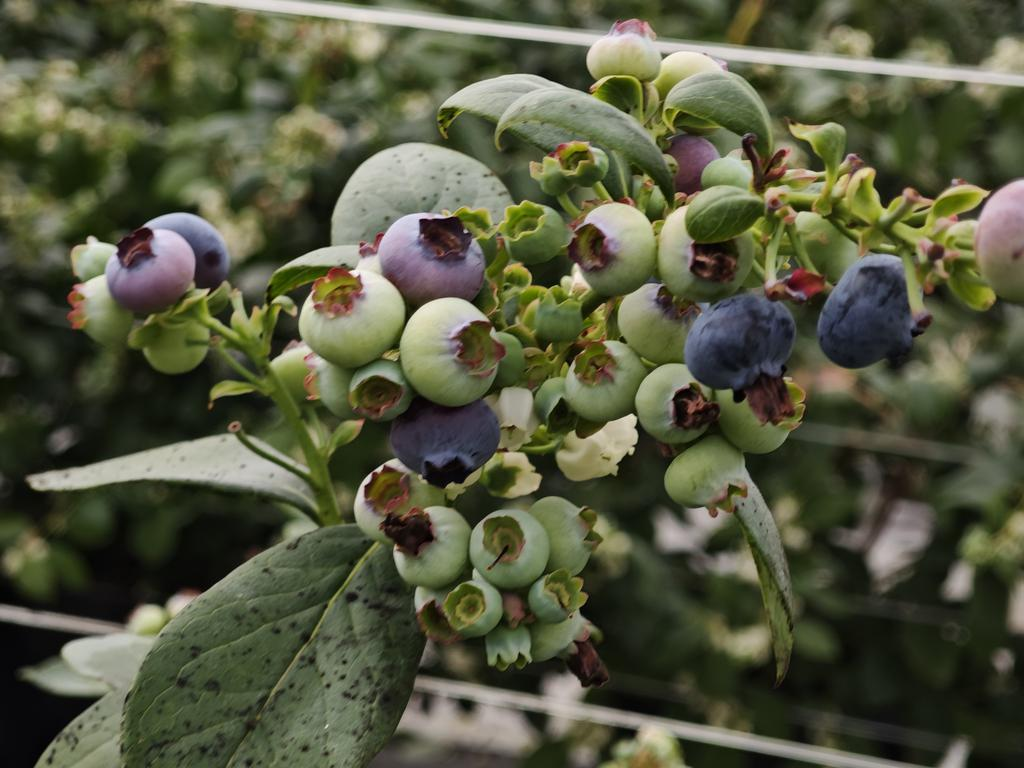RipeBlueBerry: (817, 254, 921, 372), (684, 294, 800, 393), (392, 398, 501, 485)
Semi-RipeBlueBerry: (378, 211, 484, 300), (105, 227, 197, 309)
UnripeBlueBerry: (401, 297, 502, 403), (298, 271, 405, 368)
